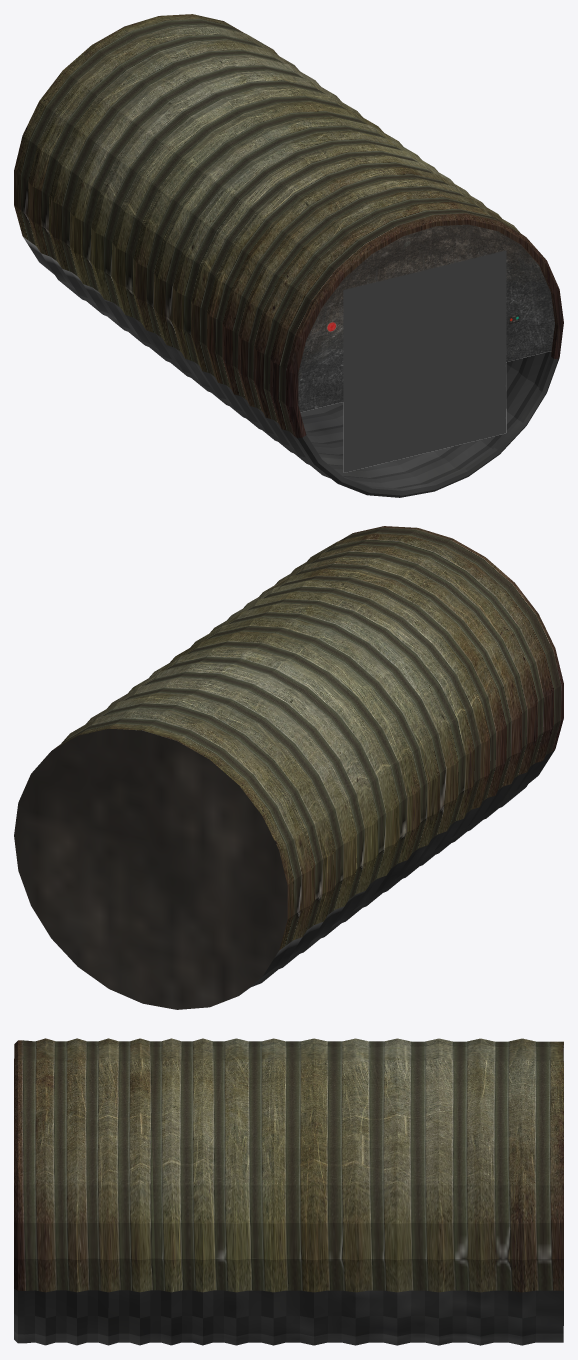
Rendered from Hangar Large.dae.
The picture shows the model from 3 angles, top to bottom: view 1: azimuth 30°, elevation 25°; view 2: azimuth 150°, elevation 25°; view 3: azimuth 270°, elevation 25°; orthographic projection.
Parts seen in each view (by area): view 1: Cylinder3-0; view 2: Cylinder3-0; view 3: Cylinder3-0.
Part boxes in pixels (x1,y1,x2,y2): Cylinder3-0: [14, 14, 563, 497]; Cylinder3-0: [14, 526, 563, 1009]; Cylinder3-0: [14, 1038, 563, 1345].
Bounding box in the file's own units: 8.53 × 8.15 × 14.7.
